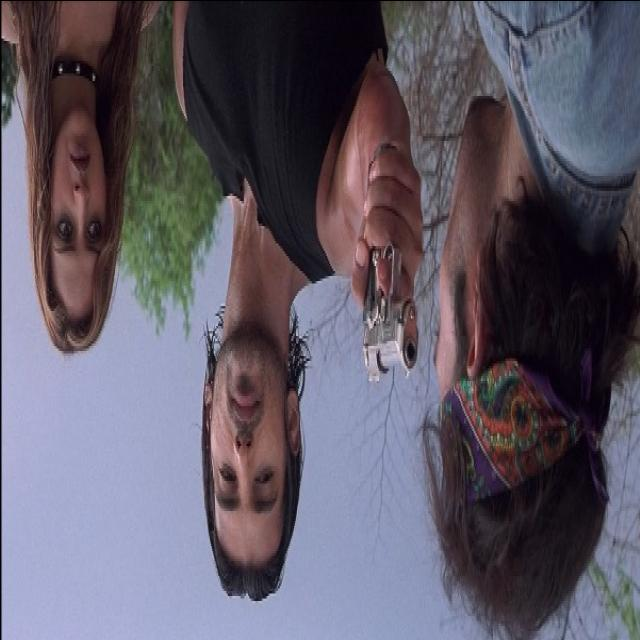weapons: (348, 142, 428, 417)
